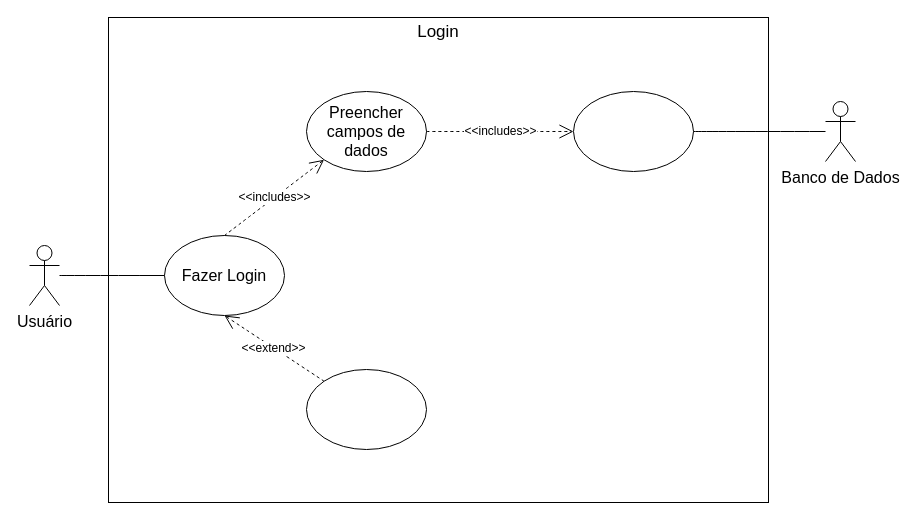
Some shapes in this 917 by 520 pixel diagram are drawn without their labels. Here are the shapes that lost their labels. From the top down, the box of each, then its label:
(572, 90, 694, 172): Validar os campos
(306, 368, 426, 450): Recuperar senha
